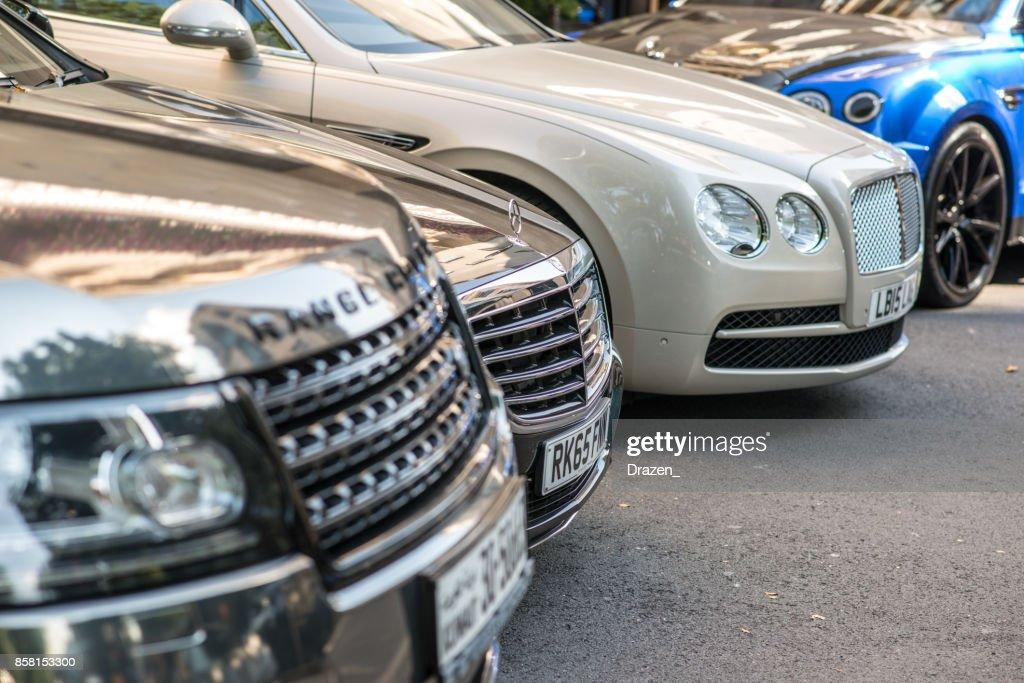Mercedes: (492, 183, 545, 254)
range rover: (230, 216, 447, 361)
